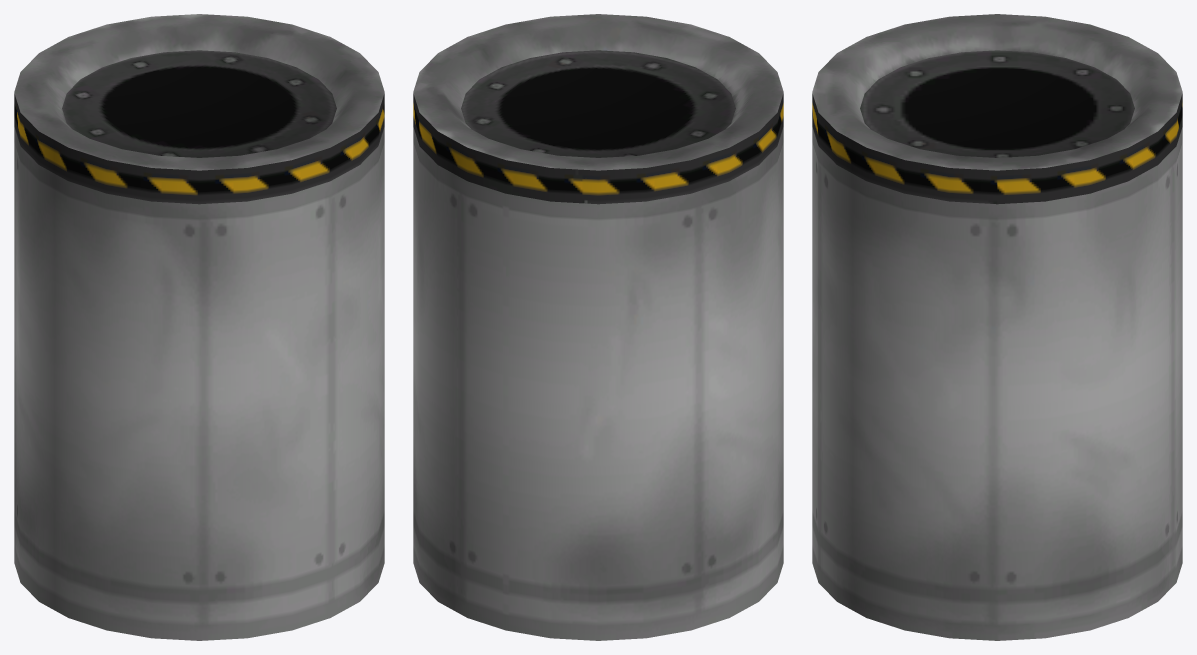
3 renders of one model, left to right at view 1: azimuth 30°, elevation 25°; view 2: azimuth 150°, elevation 25°; view 3: azimuth 270°, elevation 25°, orthographic.
Parts seen in each view (by area): view 1: Tube003, EngineMount; view 2: Tube003, EngineMount; view 3: Tube003, EngineMount.
Part boxes in pixels (bbox=[...]): Tube003: bbox=[14, 127, 384, 640]; EngineMount: bbox=[14, 14, 384, 204]; Tube003: bbox=[413, 127, 783, 640]; EngineMount: bbox=[413, 14, 783, 204]; Tube003: bbox=[812, 127, 1182, 640]; EngineMount: bbox=[812, 14, 1182, 204].
Size of what is drawn, in the model's own units: 1.25 by 1.75 by 1.25.
